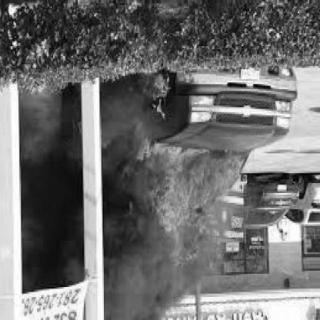Fire: (120, 130, 238, 258), (134, 47, 168, 121)
Smoke: (55, 84, 213, 318)
